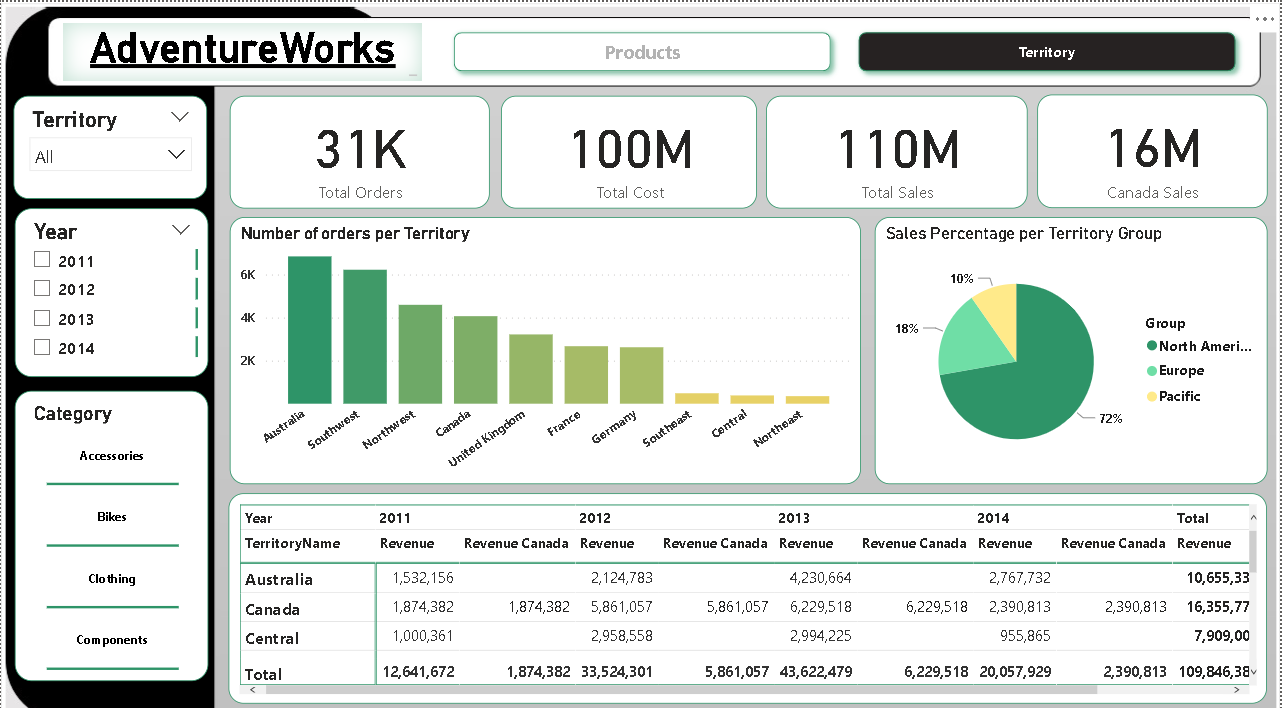

This screenshot's page, from the dashboard's own definition file:
{"tool":"powerbi","page":{"name":"Territory","canvas":[1280,720],"ordinal":1},"visuals":[{"type":"image","box":[0,0,1280,718.8],"z":0},{"type":"image","box":[0,1.2,1280,718.8],"z":1000},{"type":"card","fields":{"Values":["All Measures.Revenue Canada"]},"box":[1036.2,92.5,230,113.8],"z":2000},{"type":"card","fields":{"Values":["All Measures.Total Cost"]},"box":[500,93.8,256.2,112.5],"z":3000},{"type":"card","fields":{"Values":["All Measures.Distinct Num Orders"]},"box":[228.8,93.8,260,112.5],"z":4000},{"type":"card","fields":{"Values":["All Measures.Revenue"]},"box":[765,93.8,261.2,112.5],"z":5000},{"type":"pieChart","title":"Sales Percentage per Territory Group","fields":{"Category":["vw_DimTerritories.Group"],"Y":["All Measures.Revenue"]},"box":[873.8,215,392.5,267.5],"z":6000},{"type":"clusteredColumnChart","title":"Number of orders per Territory","fields":{"Category":["vw_DimTerritories.TerritoryName"],"Y":["All Measures.Distinct Num Orders"]},"box":[228.8,215,631.2,267.5],"z":7000},{"type":"pivotTable","fields":{"Rows":["vw_DimTerritories.TerritoryName"],"Values":["All Measures.Revenue","All Measures.Revenue Canada"],"Columns":["Calendar.Year"]},"box":[227.5,491.2,1038.8,210],"z":8000},{"type":"pageNavigator","box":[443.8,21.2,801.2,57.5],"z":9000},{"type":"slicer","fields":{"Values":["vw_DimTerritories.TerritoryName"]},"box":[12.3,93.2,194,103.5],"z":10000},{"type":"slicer","fields":{"Values":["Calendar.Year"]},"box":[13.5,206.2,194,169],"z":11000},{"type":"slicer","fields":{"Values":["vw_DimProducts.Category_Name"]},"box":[13.8,388.8,193.8,290],"z":12000},{"type":"textbox","title":"AdventureWorks","box":[62.5,21.2,358.8,57.5],"z":13000}]}

Visuals, with their boxes on the page's 1280x720 design canvas (x1, y1, x2, y2). These are canvas units, not pixel positions in the 1282x708 screenshot, which may show the page scaled, cropped or inside an application window:
image: crop(0, 0, 1280, 719)
image: crop(0, 1, 1280, 720)
card - All Measures.Revenue Canada: crop(1036, 92, 1266, 206)
card - All Measures.Total Cost: crop(500, 94, 756, 206)
card - All Measures.Distinct Num Orders: crop(229, 94, 489, 206)
card - All Measures.Revenue: crop(765, 94, 1026, 206)
"Sales Percentage per Territory Group" pieChart: crop(874, 215, 1266, 482)
"Number of orders per Territory" clusteredColumnChart: crop(229, 215, 860, 482)
pivotTable - vw_DimTerritories.TerritoryName x All Measures.Revenue: crop(228, 491, 1266, 701)
pageNavigator: crop(444, 21, 1245, 79)
slicer - vw_DimTerritories.TerritoryName: crop(12, 93, 206, 197)
slicer - Calendar.Year: crop(14, 206, 208, 375)
slicer - vw_DimProducts.Category_Name: crop(14, 389, 208, 679)
"AdventureWorks" textbox: crop(62, 21, 421, 79)
